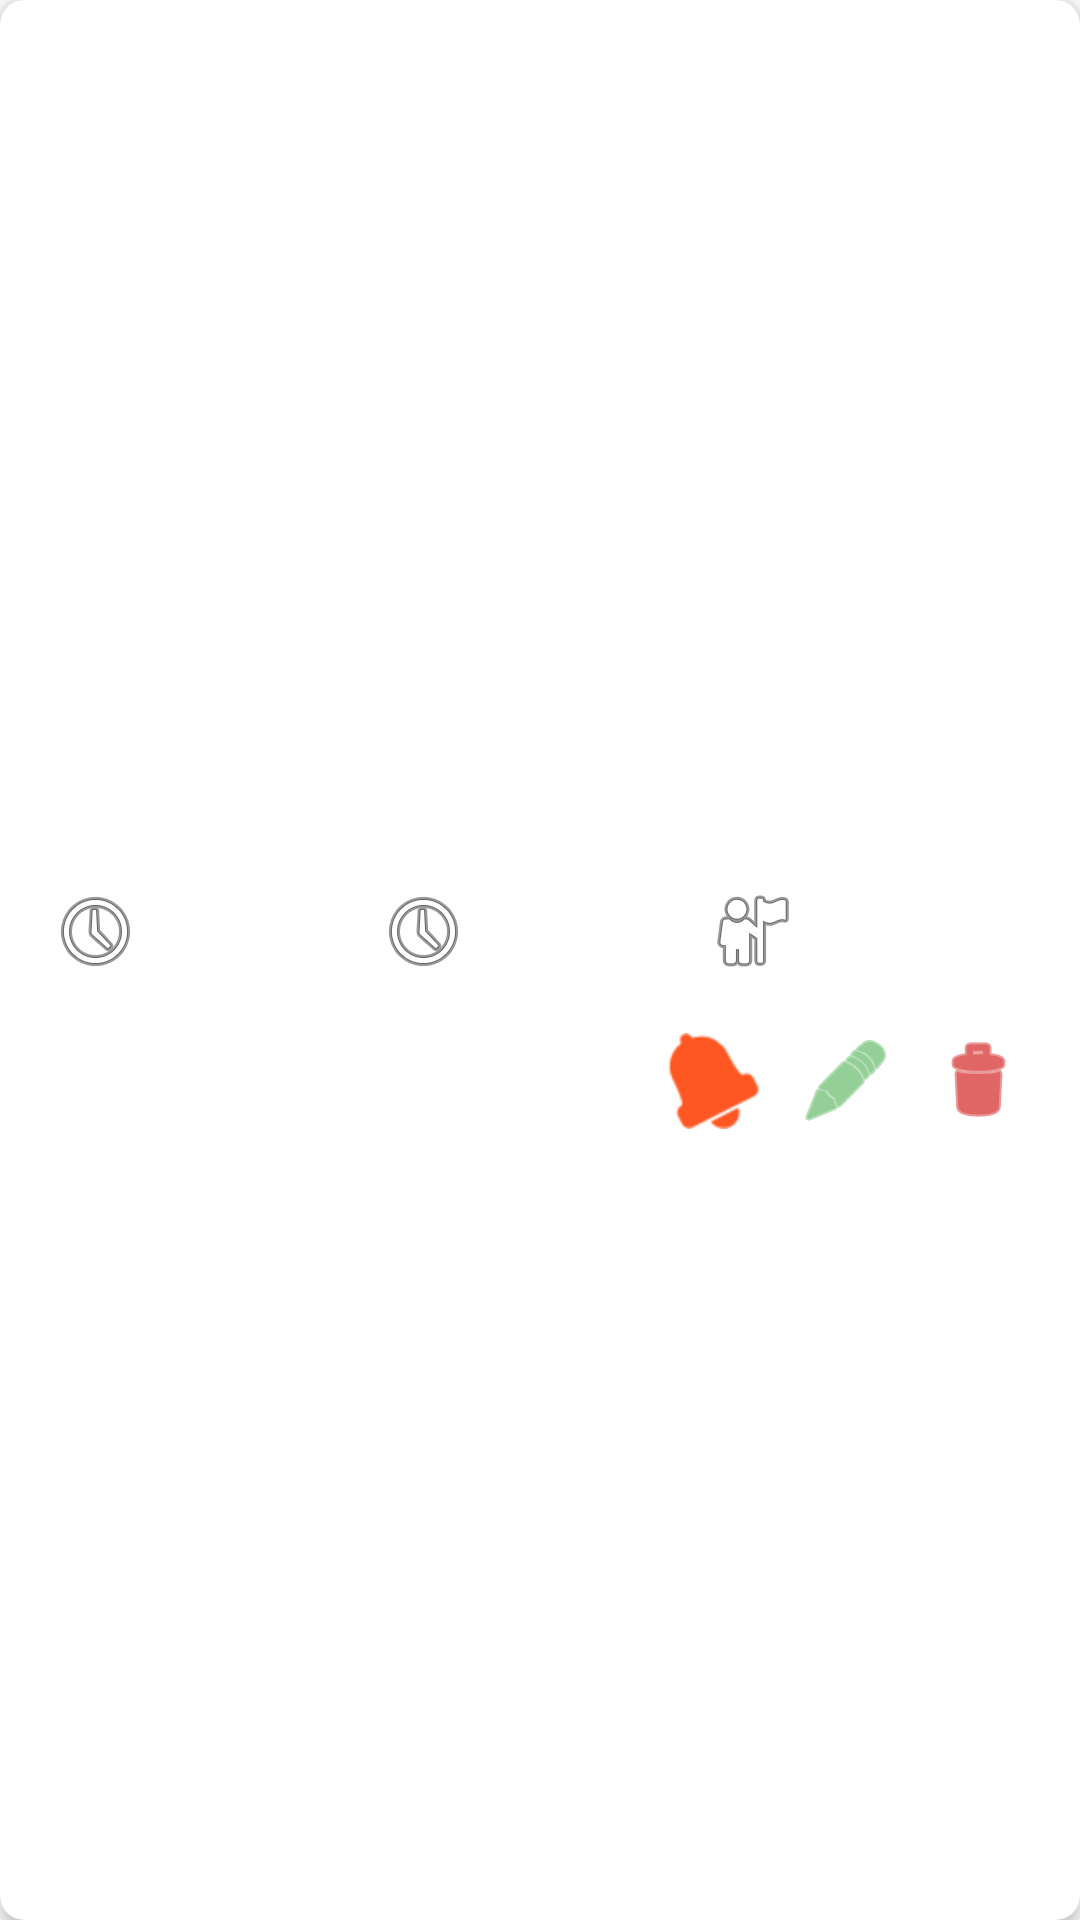

Icon click points for this 1080x1920 phone screenshot, format (x,y):
Delete Recipe: (978,1079)
Edit Recipe: (845,1080)
Set Reminder: (714,1081)
